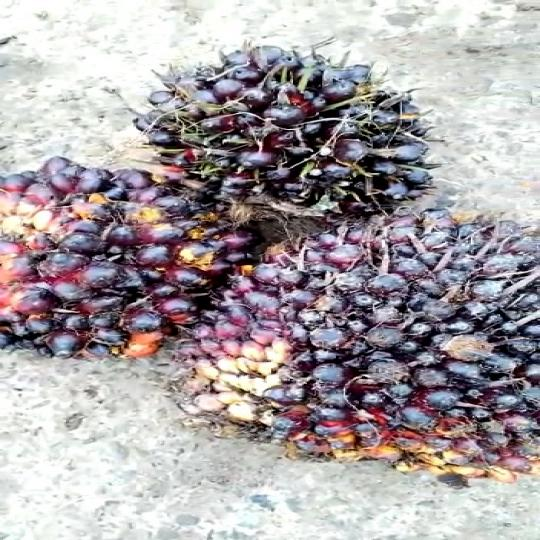kurang masak: (172, 202, 540, 488), (0, 157, 244, 374), (139, 43, 426, 215)
